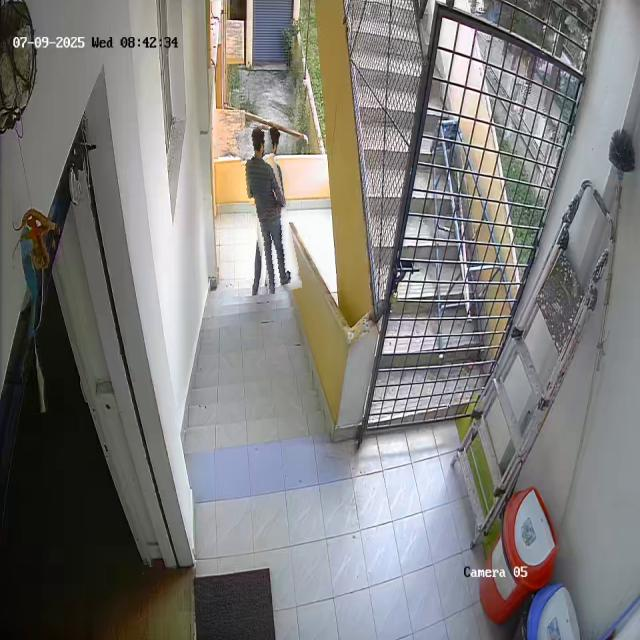person: (243, 125, 294, 294)
